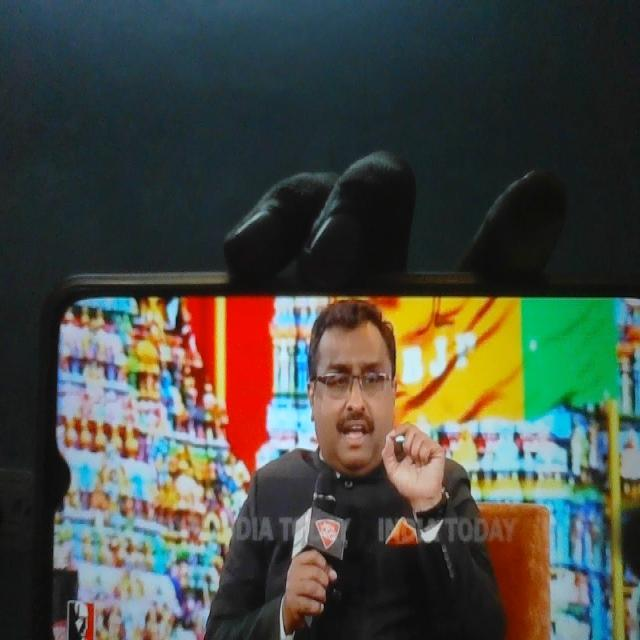fake: (294, 264, 416, 495)
